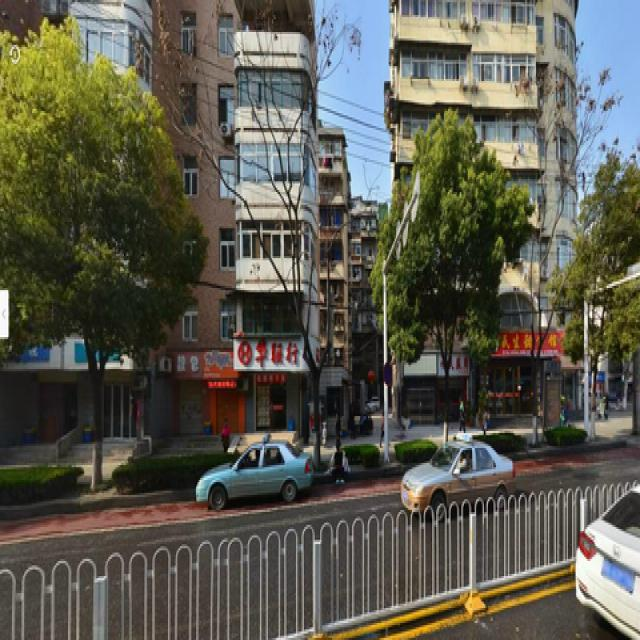cinn: (13, 37, 168, 470), (398, 141, 486, 422)
